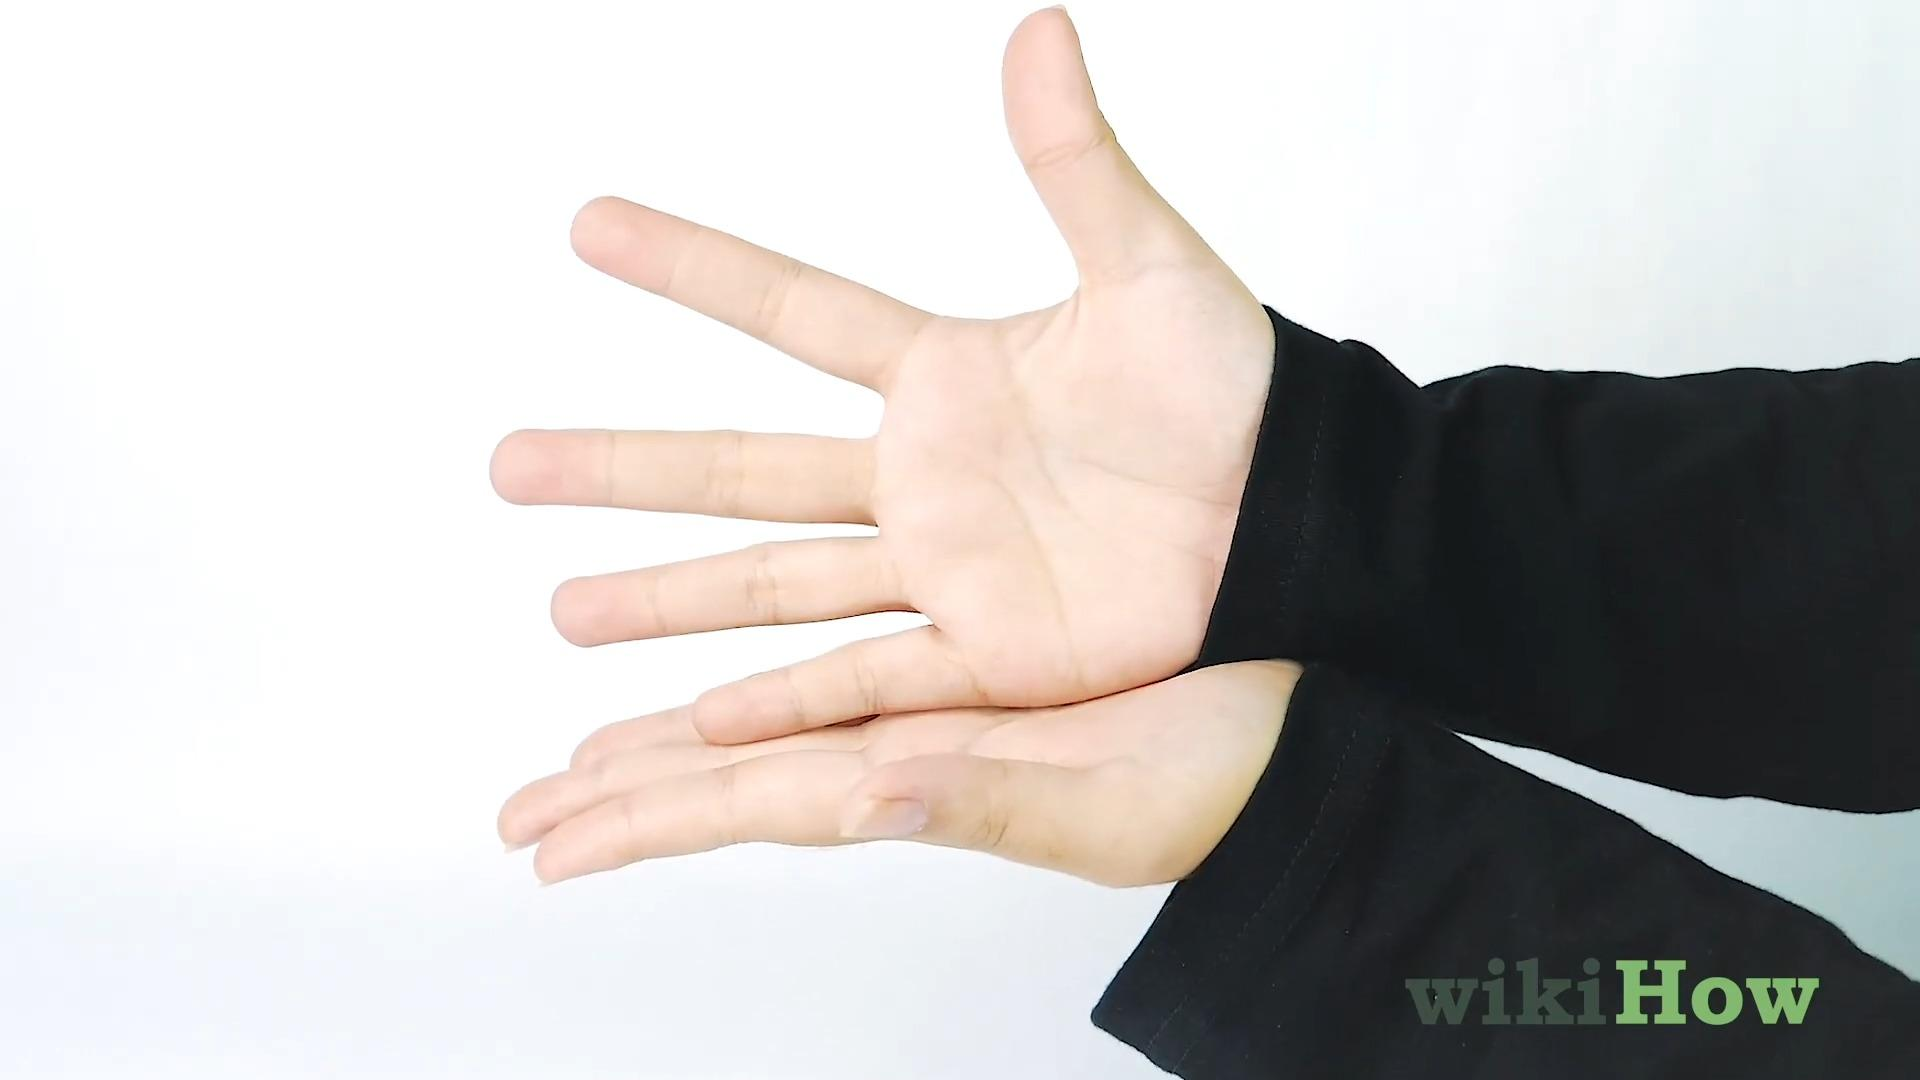Paper: (480, 4, 1282, 749)
